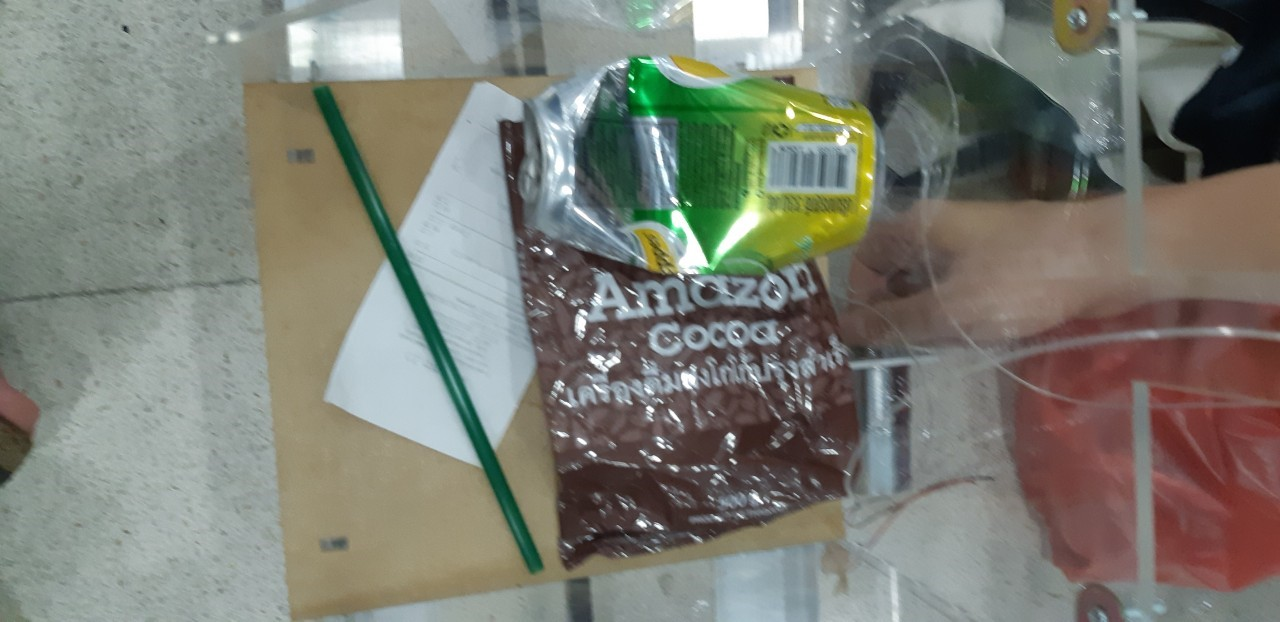AlCan: (524, 52, 887, 282)
Others: (315, 80, 550, 575), (520, 261, 874, 575), (322, 82, 541, 470)
